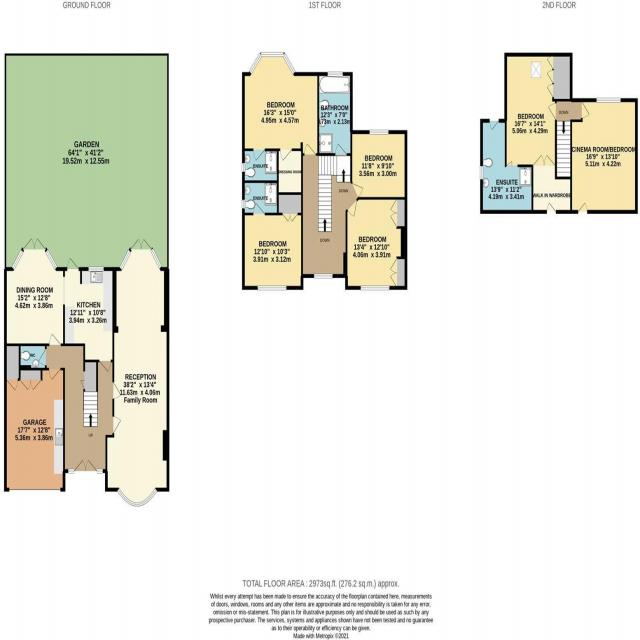DOOR: (351, 182, 364, 199), (547, 102, 557, 121), (347, 198, 357, 217), (252, 148, 265, 162), (112, 381, 121, 400), (253, 202, 265, 216), (67, 257, 79, 271), (49, 333, 61, 347), (581, 101, 590, 119), (112, 416, 121, 434), (335, 143, 347, 156), (304, 143, 316, 156), (99, 360, 111, 373), (577, 202, 588, 214), (489, 118, 499, 131)
DOUBLE DOOR: (22, 235, 48, 254), (131, 236, 153, 251)
ROOM: (105, 238, 170, 507), (4, 237, 117, 373), (480, 53, 573, 214), (242, 51, 319, 162), (343, 197, 407, 290), (242, 200, 304, 290), (350, 130, 408, 200)
WINDOW: (249, 51, 296, 76), (117, 487, 158, 507), (119, 248, 132, 271), (11, 248, 24, 271), (45, 249, 58, 271), (150, 247, 162, 270), (360, 285, 390, 291), (257, 285, 287, 291), (596, 98, 621, 103), (313, 273, 333, 279), (369, 130, 389, 135), (88, 267, 104, 272), (327, 72, 344, 76), (480, 166, 483, 180), (242, 199, 245, 210), (242, 163, 245, 173)
